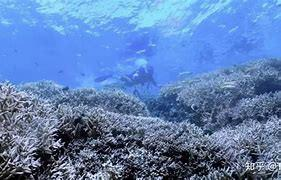bleached_corals: (0, 60, 281, 180)
